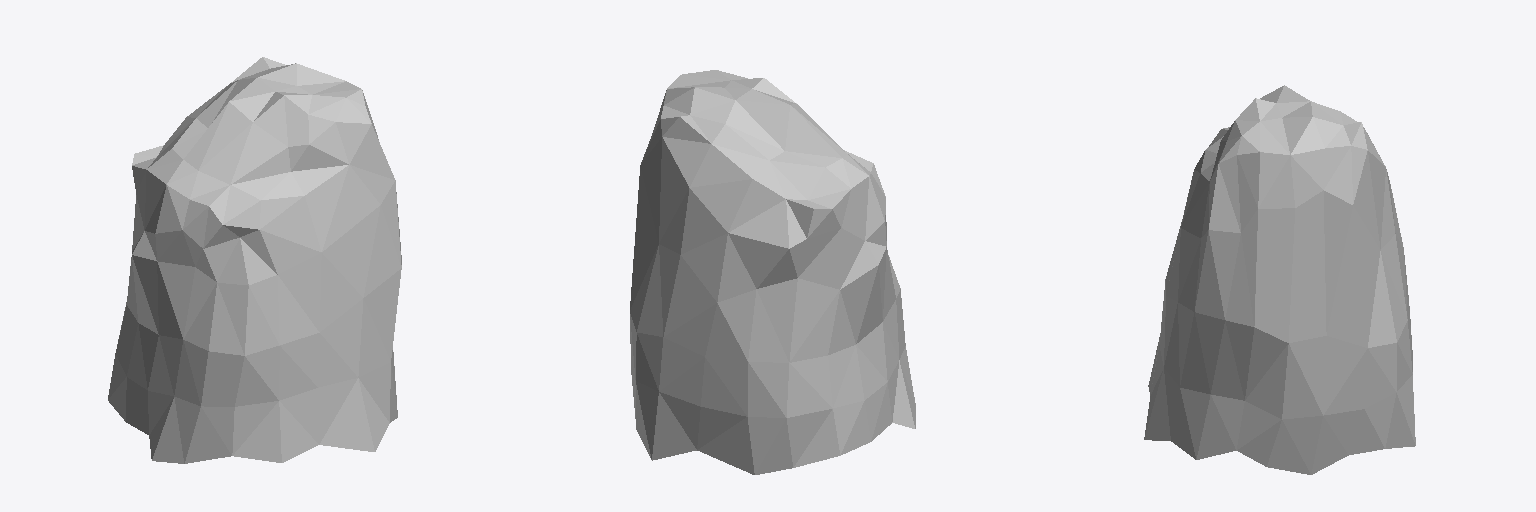
The model's file is wall2.obj.
The picture shows the model from 3 angles: view 1: azimuth 30°, elevation 25°; view 2: azimuth 150°, elevation 25°; view 3: azimuth 270°, elevation 25°; orthographic projection.
Parts seen in each view (by area): view 1: Cube.005_Cube.006; view 2: Cube.005_Cube.006; view 3: Cube.005_Cube.006.
Boxes of the visible parts, box(x1,y1,x2,y2) form: Cube.005_Cube.006: box(108, 57, 401, 463); Cube.005_Cube.006: box(630, 70, 915, 474); Cube.005_Cube.006: box(1144, 85, 1415, 474).
Size of the model in its own units: 10.36 by 13.12 by 9.69.